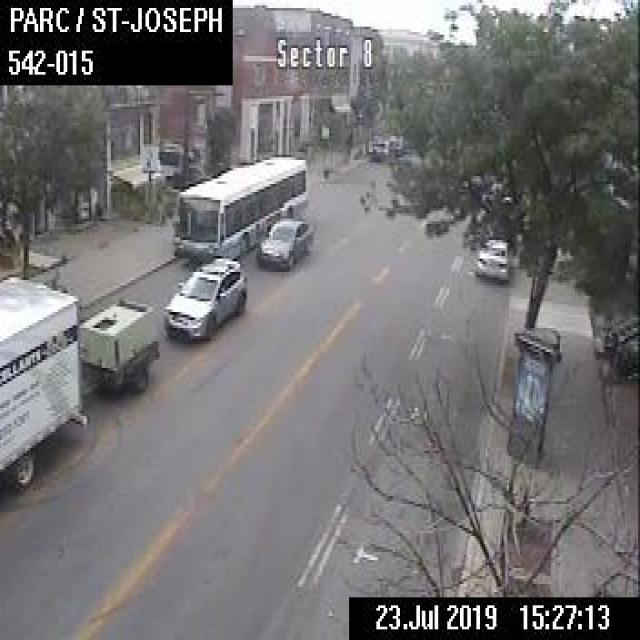bus: (170, 154, 306, 256)
vehicle: (0, 274, 158, 490), (162, 256, 246, 344), (255, 217, 312, 268), (474, 234, 509, 280), (156, 136, 200, 163), (369, 138, 394, 160), (389, 133, 406, 153)
